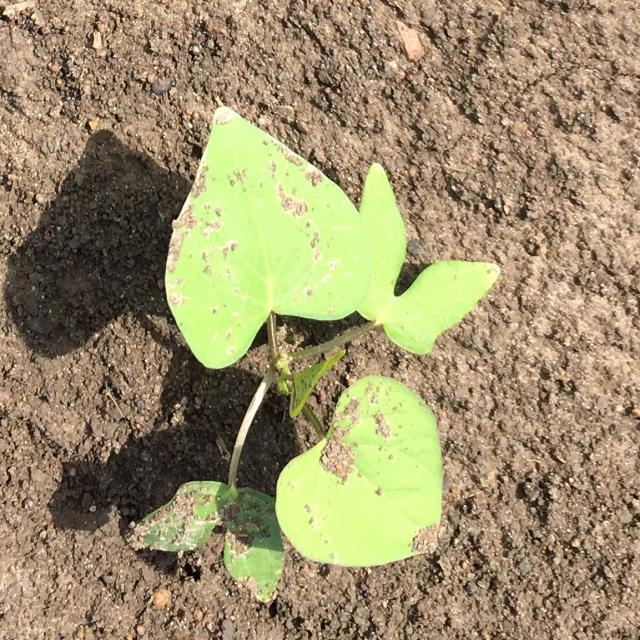Purslane: (126, 105, 501, 604)
